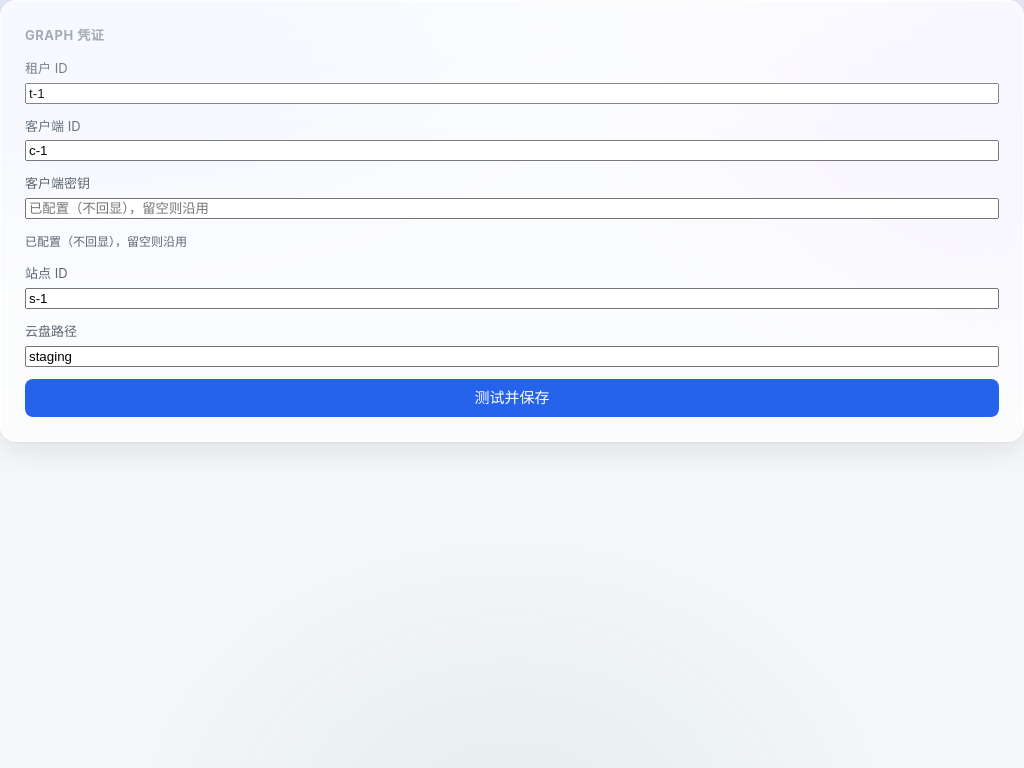
GraphCredentialsPanel（四期的凭证用例，六期随面板拆分搬到这里） › 自检进行中禁用保存按钮
Check: the field labelled "租户 ID" is shown, box x1=25 y1=83 x2=999 y2=104
Click the button "测试并保存".
click(512, 398)  # box x1=25 y1=379 x2=999 y2=417
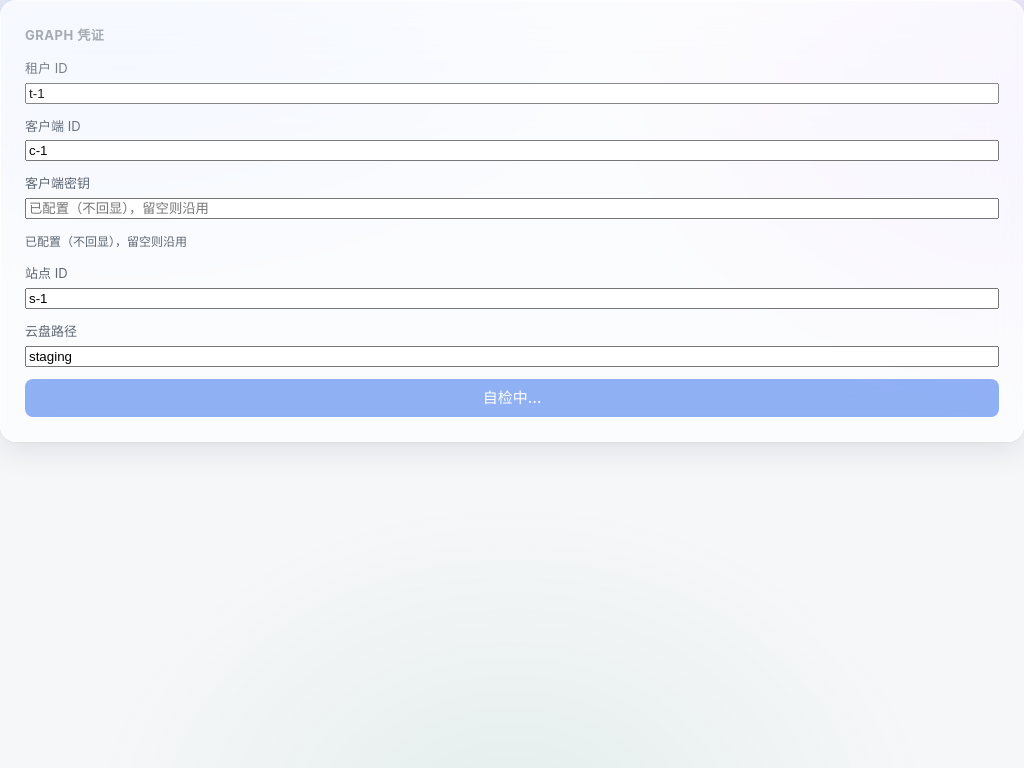
Check: the button named "测试并保存" is disabled, box x1=25 y1=379 x2=999 y2=417
